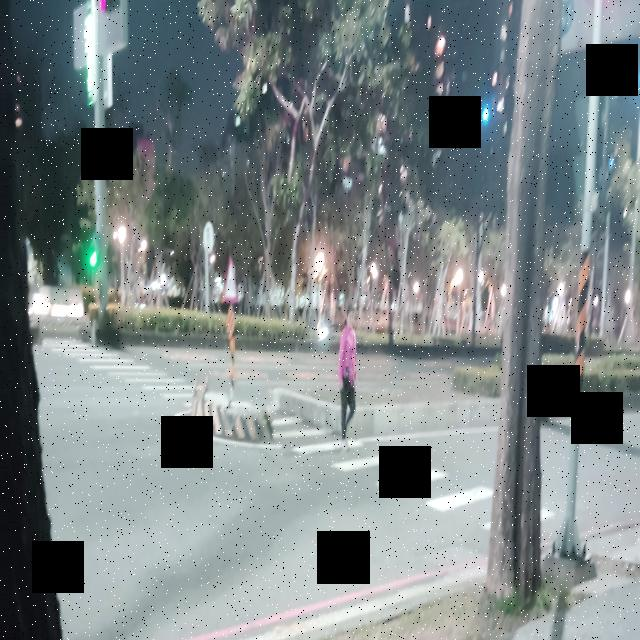zebra_crossing: (176, 167, 529, 486), (451, 318, 536, 640)
